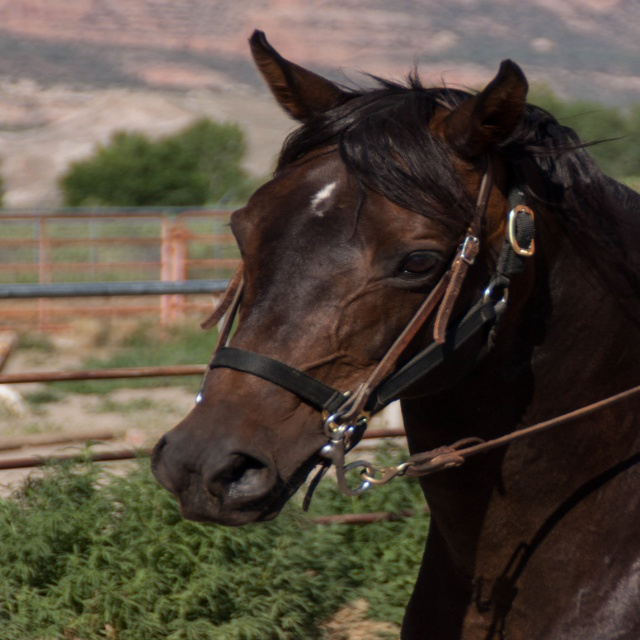Horse: (151, 31, 639, 640)
